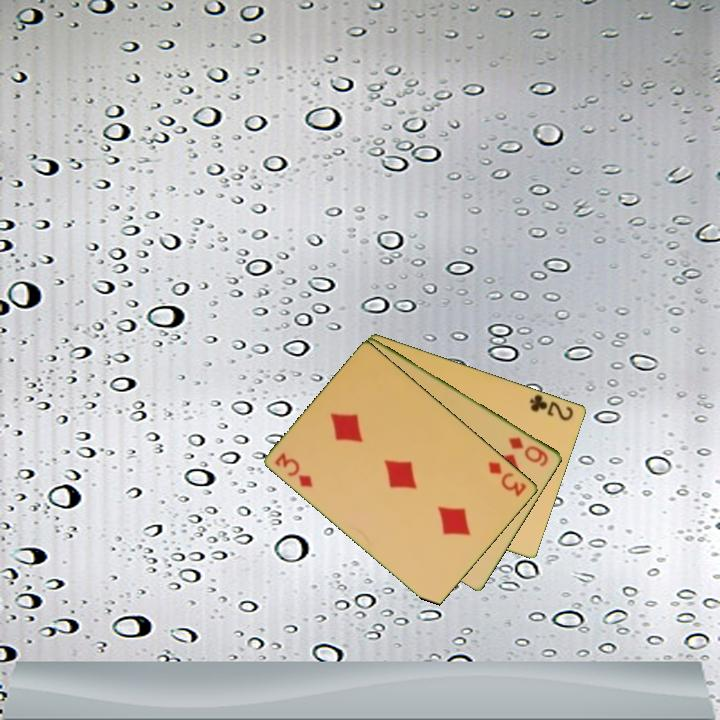2c: (527, 391, 576, 424)
3d: (485, 458, 530, 500), (271, 449, 317, 490)
6d: (505, 433, 552, 470)
